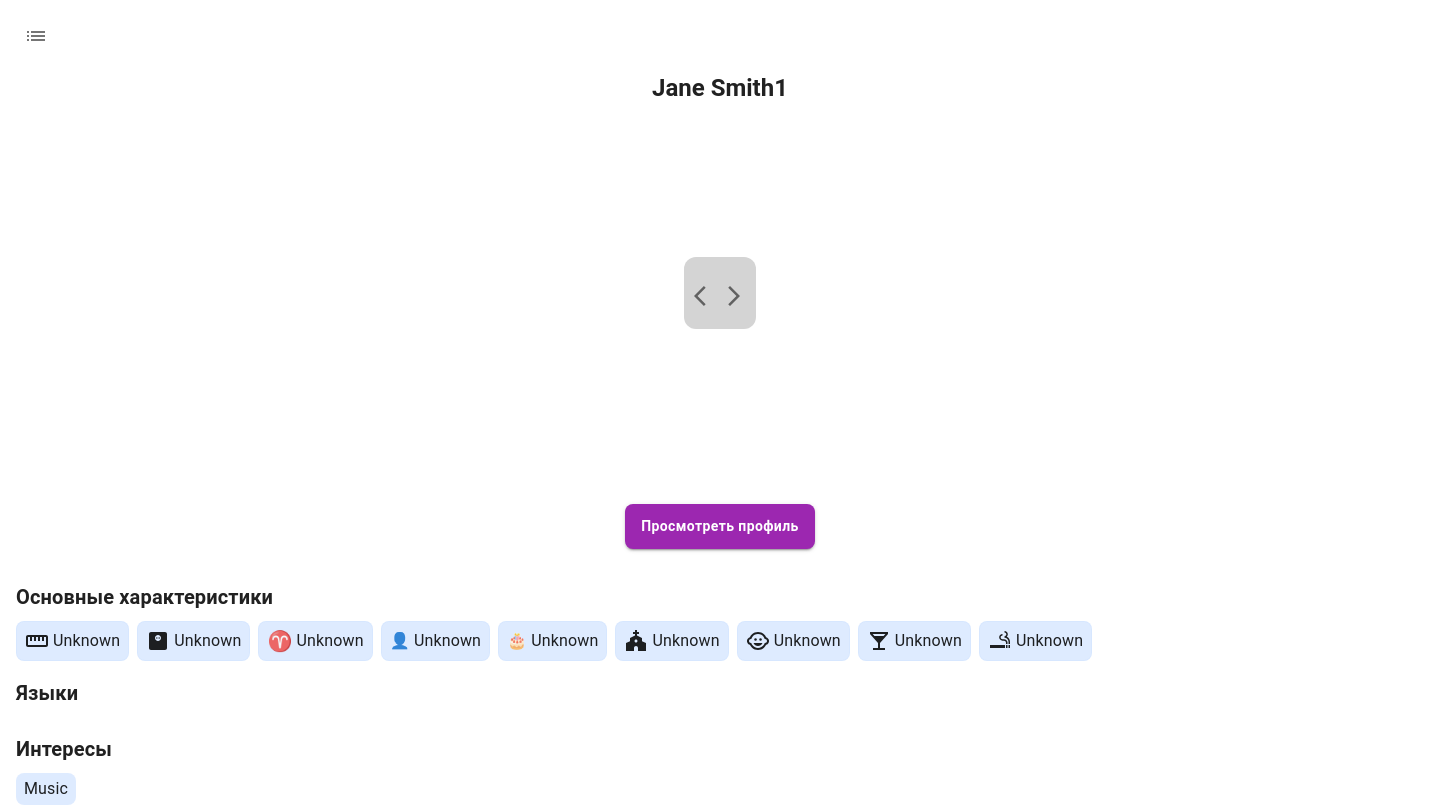
Test: MatchesPage › selects a match from the list
Click the button named "open match list": (36, 36) [16,16,56,56]
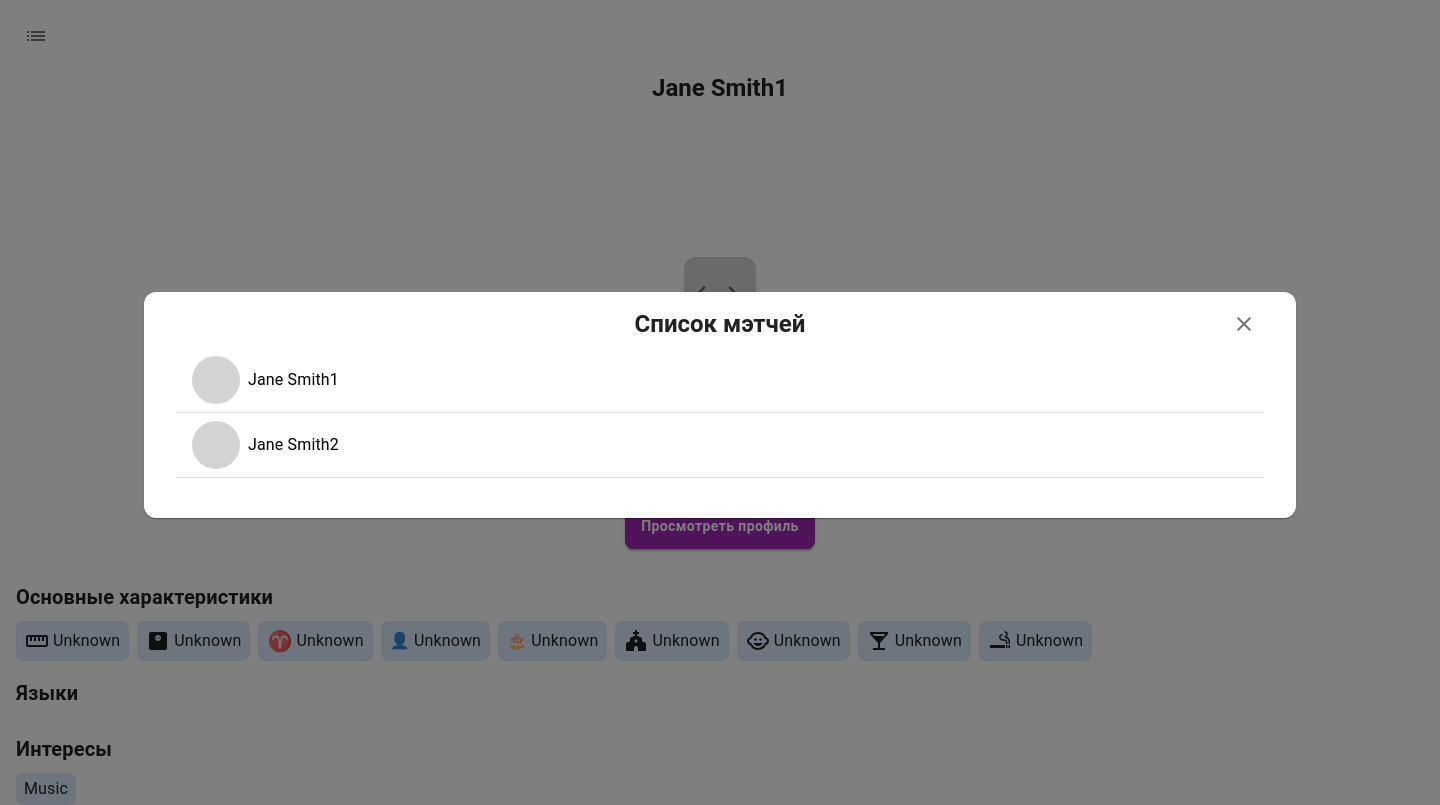
Click the button "Jane Smith2": (216, 445) [176,413,1264,477]
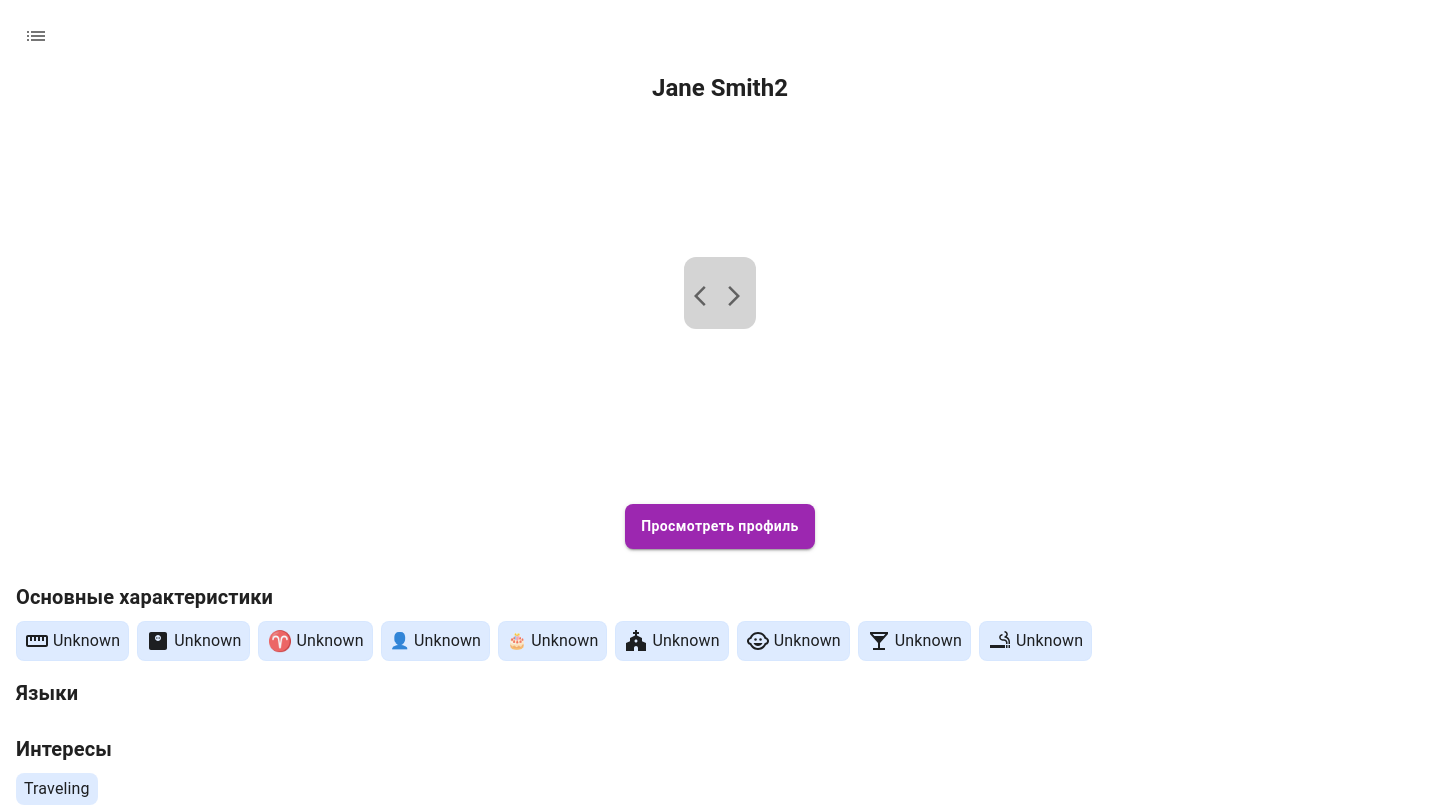
Result: the heading "Jane Smith2" is shown at [652,74,788,102]
